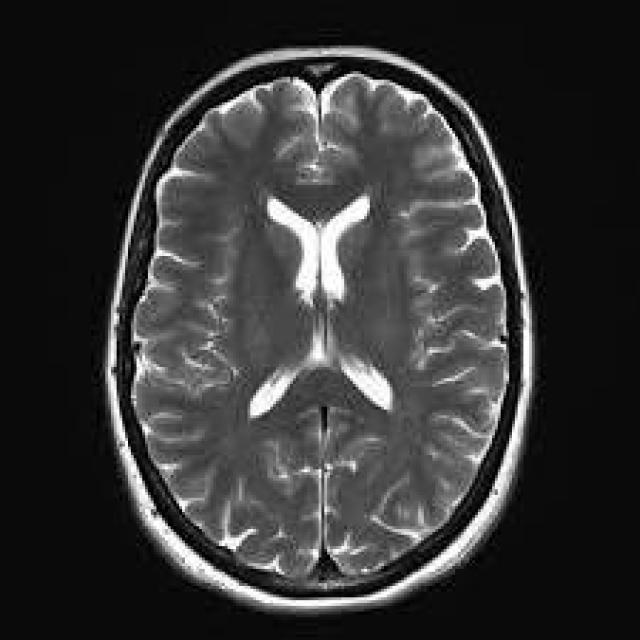notumor: (102, 48, 538, 623)
